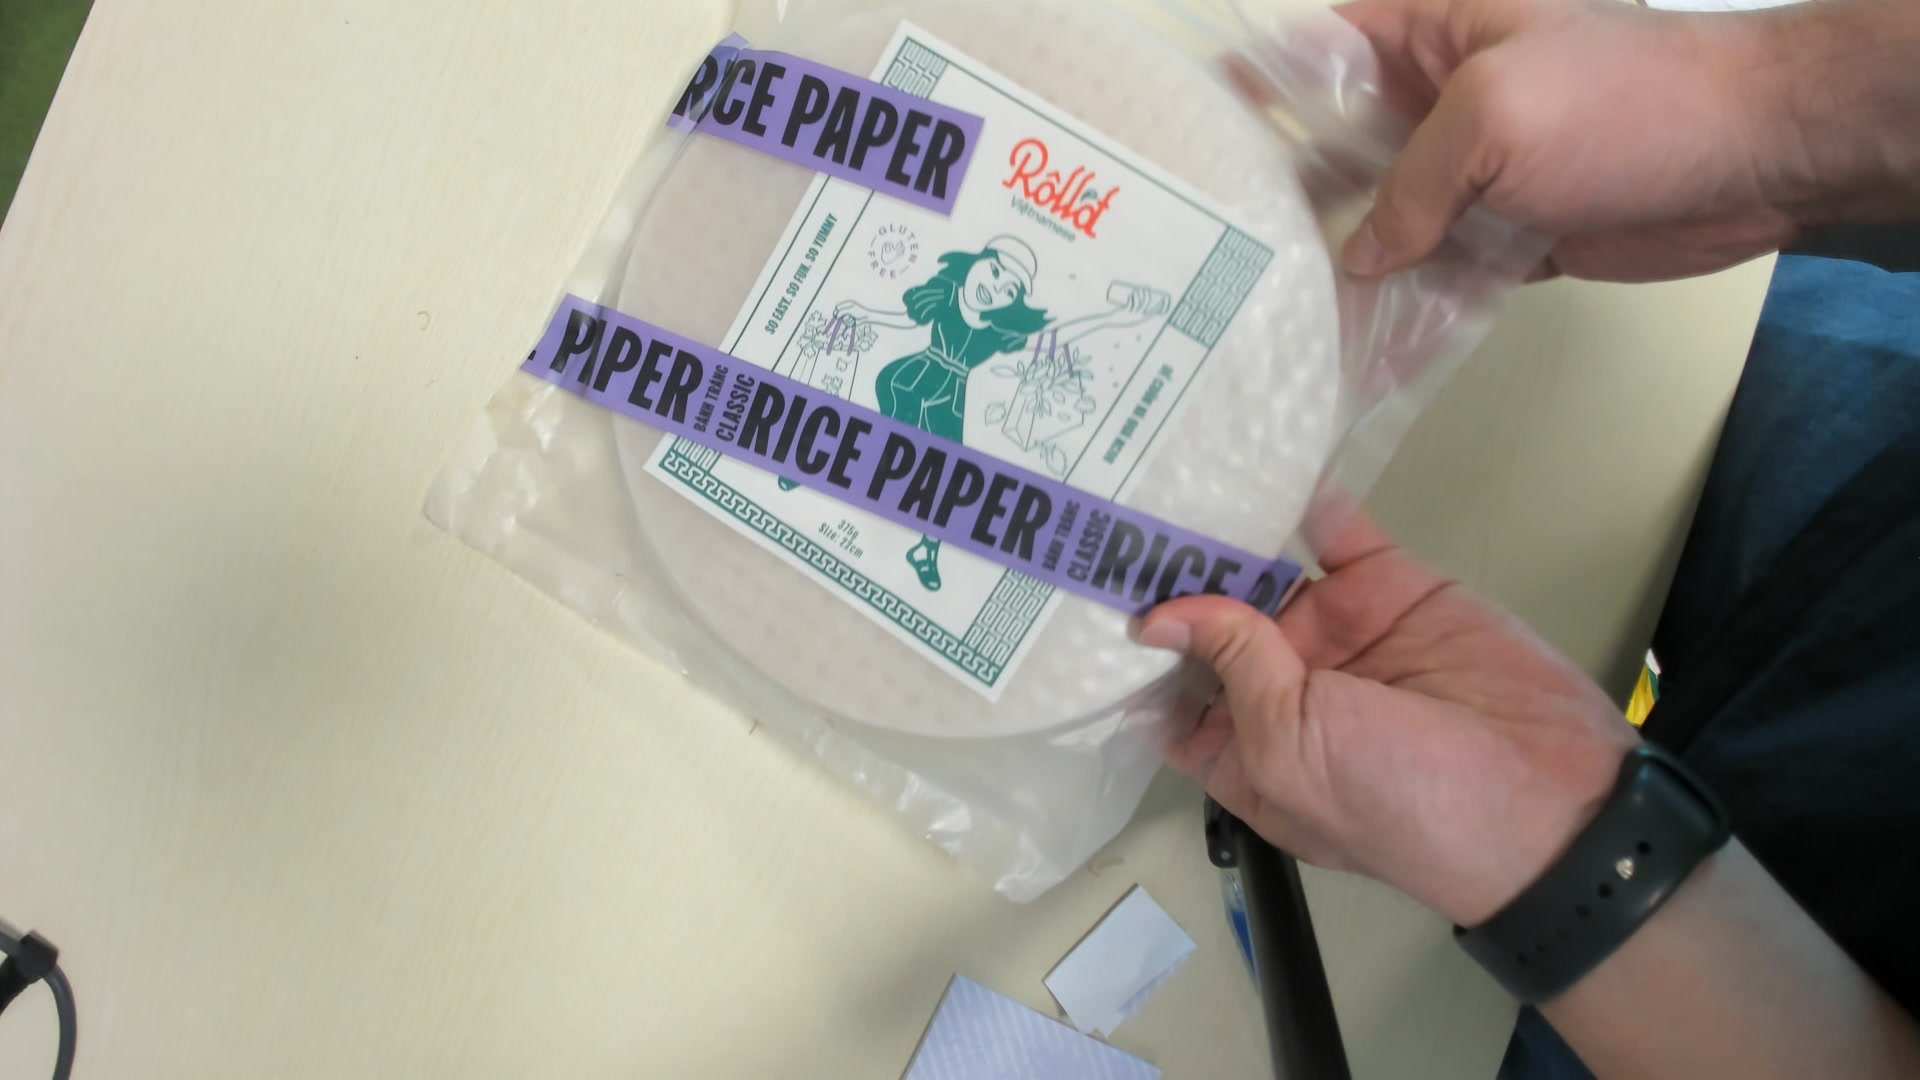InstantMeals_300_399g_NonHalal_NonHealthy: (451, 3, 1569, 903)
